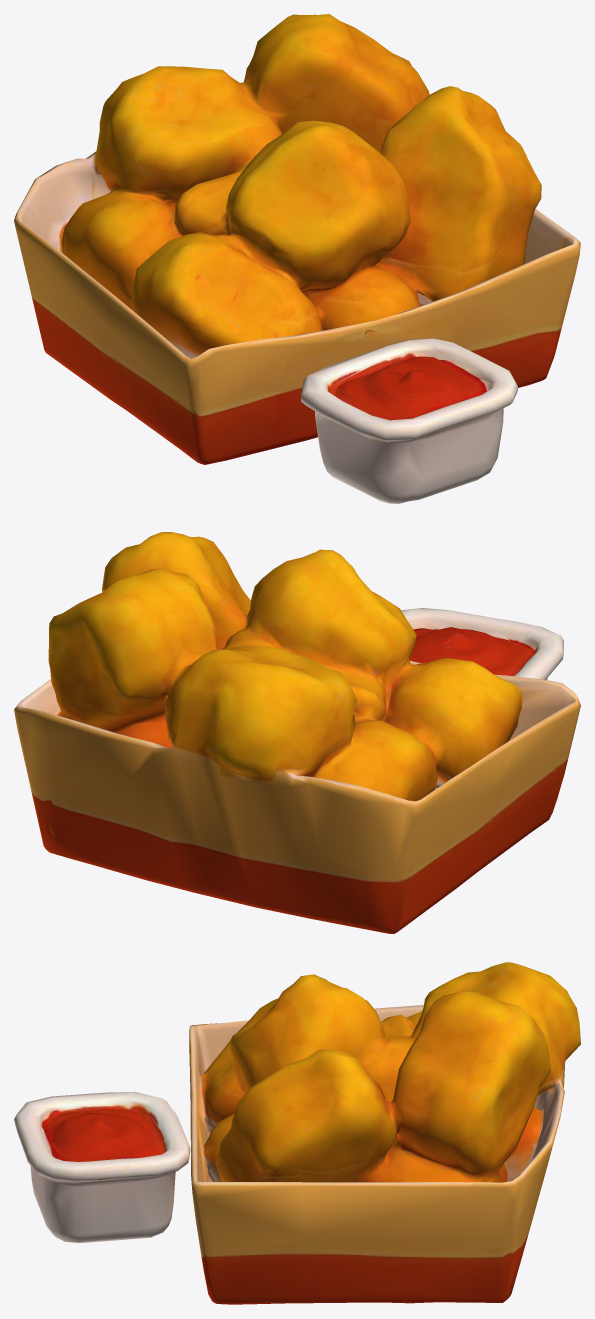
3 renders of one model, top to bottom at view 1: azimuth 30°, elevation 25°; view 2: azimuth 150°, elevation 25°; view 3: azimuth 270°, elevation 25°, orthographic. The views are drawn at different scales.
Parts seen in each view (by area): view 1: nuggets; view 2: nuggets; view 3: nuggets.
Part boxes in pixels (x1,y1,x2,y2): nuggets: (14, 14, 580, 503); nuggets: (14, 532, 580, 933); nuggets: (14, 962, 580, 1304).
Size of the model in its own units: 0.1393 by 0.0932 by 0.18.
Materials: 1 (1 with a texture image).
